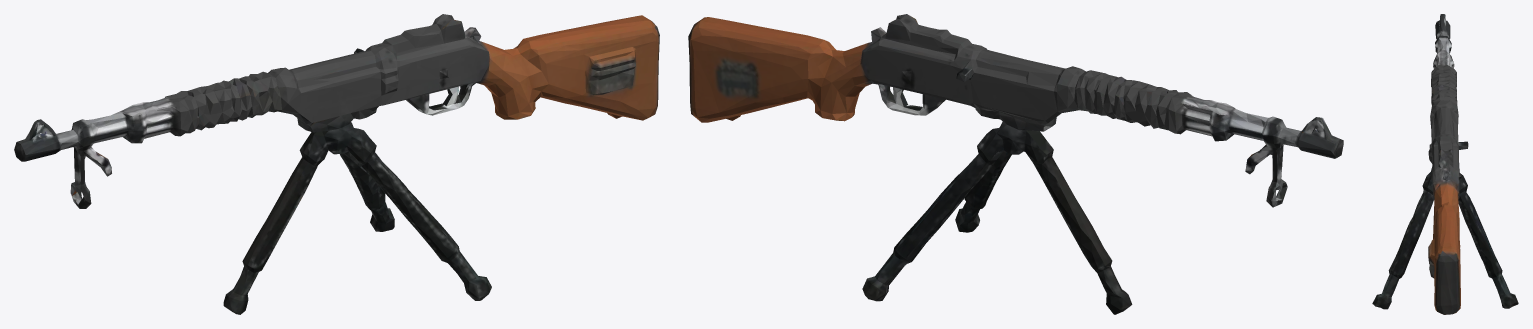
The model's file is lmg.glb.
The picture shows the model from 3 angles, left to right: view 1: azimuth 30°, elevation 25°; view 2: azimuth 150°, elevation 25°; view 3: azimuth 270°, elevation 25°; orthographic projection. The views are drawn at different scales.
Parts seen in each view (by area): view 1: lmg; view 2: lmg; view 3: lmg.
Boxes of the visible parts, x1,y1,x2,y2 form: lmg: (14, 14, 659, 314); lmg: (688, 14, 1343, 314); lmg: (1372, 14, 1518, 314).
Size of the model in its own units: 1.35 by 0.4935 by 0.3942.
Materials: 1 (1 with a texture image).
